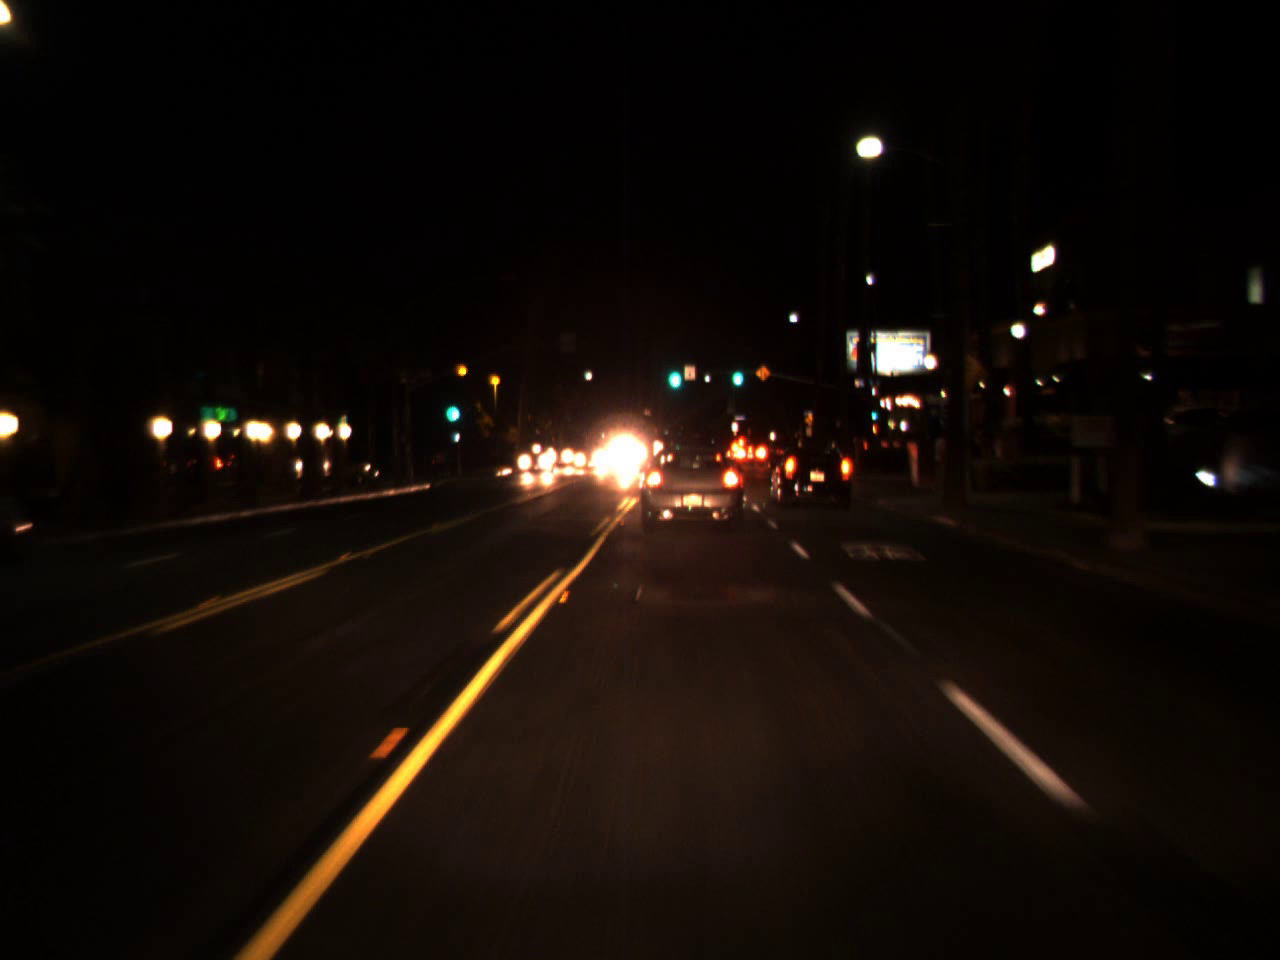go: (442, 386, 458, 428), (665, 359, 683, 389), (728, 359, 744, 386), (867, 399, 879, 419)
